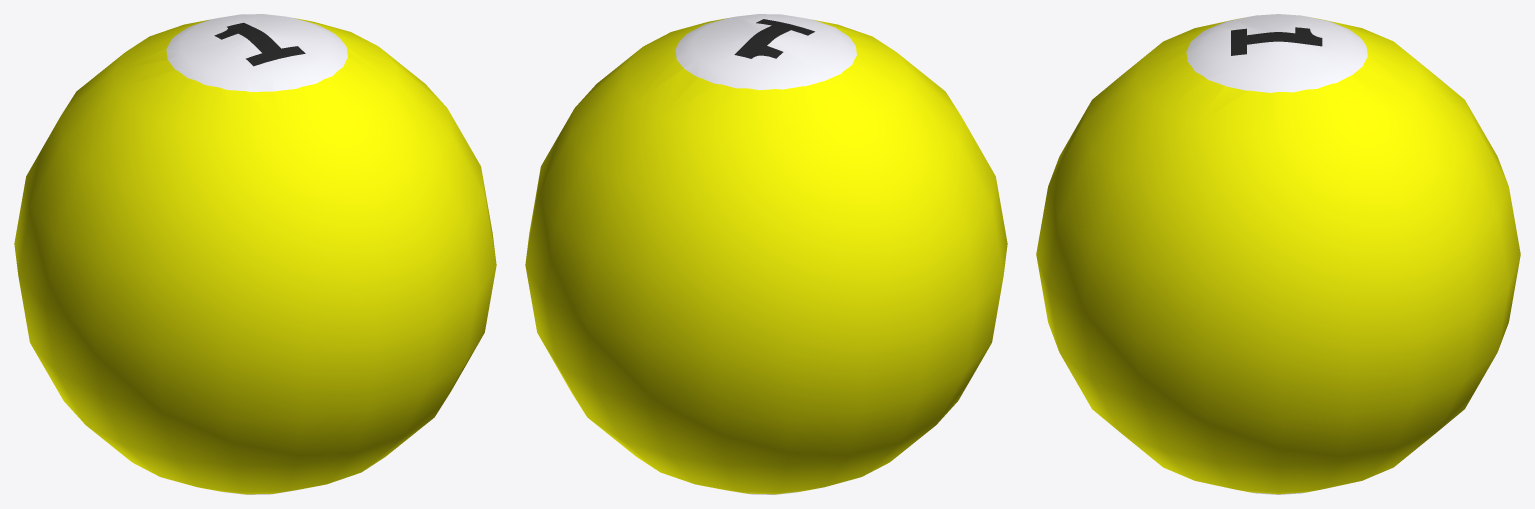
File: 1ball.dae
3 views of the same model, side by side, from view 1: azimuth 30°, elevation 25°; view 2: azimuth 150°, elevation 25°; view 3: azimuth 270°, elevation 25° (orthographic).
Visible parts, largest first — view 1: Billiard_Ball__1_Yellow (×3); view 2: Billiard_Ball__1_Yellow (×3); view 3: Billiard_Ball__1_Yellow (×3).
Boxes of the visible parts, x1=… form: Billiard_Ball__1_Yellow (×3): x1=14, y1=14, x2=496, y2=494; Billiard_Ball__1_Yellow (×3): x1=525, y1=14, x2=1007, y2=494; Billiard_Ball__1_Yellow (×3): x1=1036, y1=14, x2=1520, y2=494.
Bounding box in the file's own units: 1.68 × 1.68 × 1.68.
